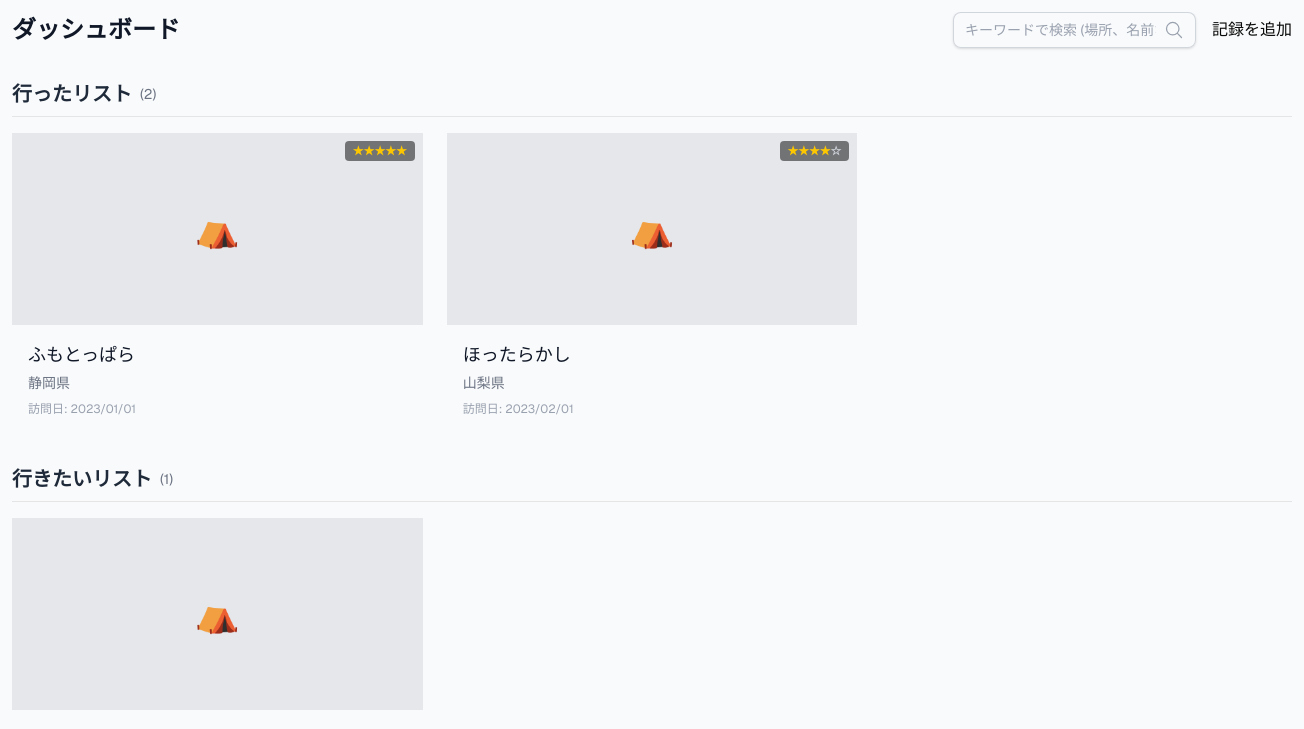
Test: DashboardClient › shows "not found" message when no match
Type "存在しないキャンプ場" into the field with placeholder "キーワードで検索 (場所、名前など)...".
click(1074, 30); type("存在しないキャンプ場")  # box x1=953 y1=12 x2=1196 y2=48
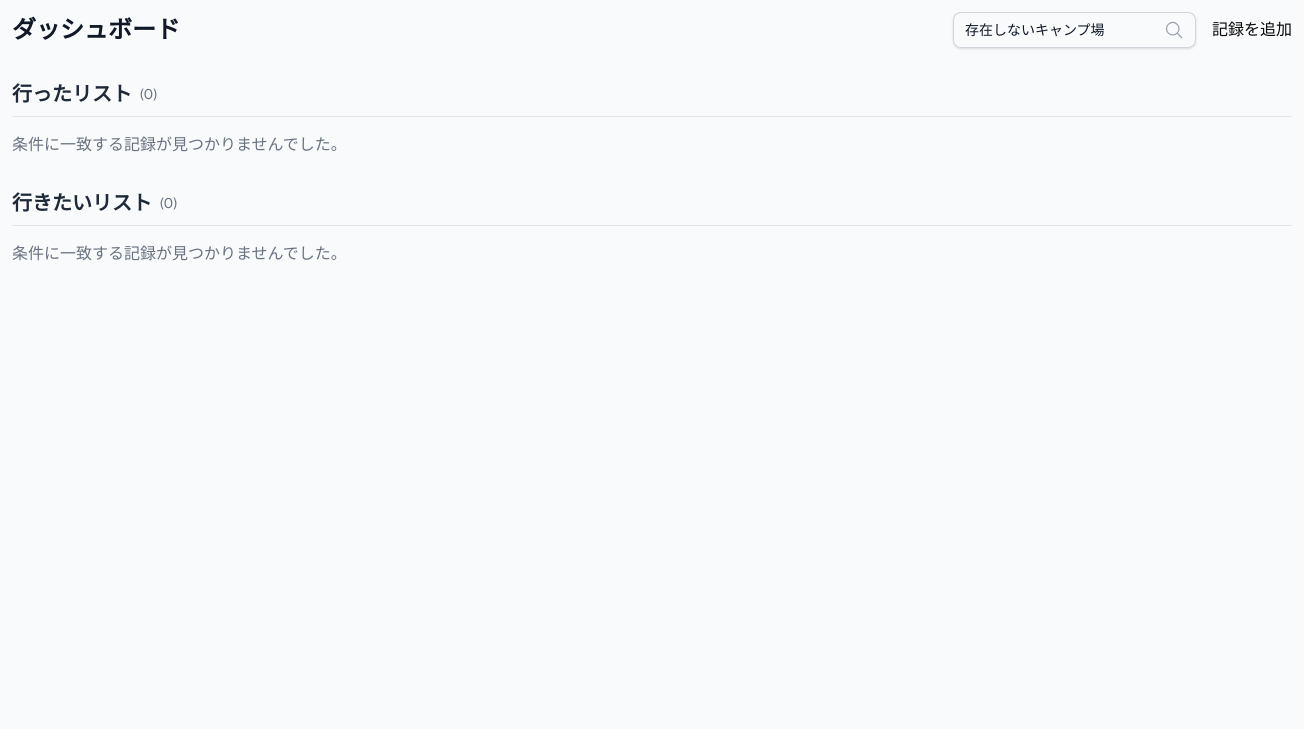
Result: the text "条件に一致する記録が見つかりませんでした。" is shown 2 times at x1=12 y1=134 x2=347 y2=155; x1=12 y1=243 x2=347 y2=264
